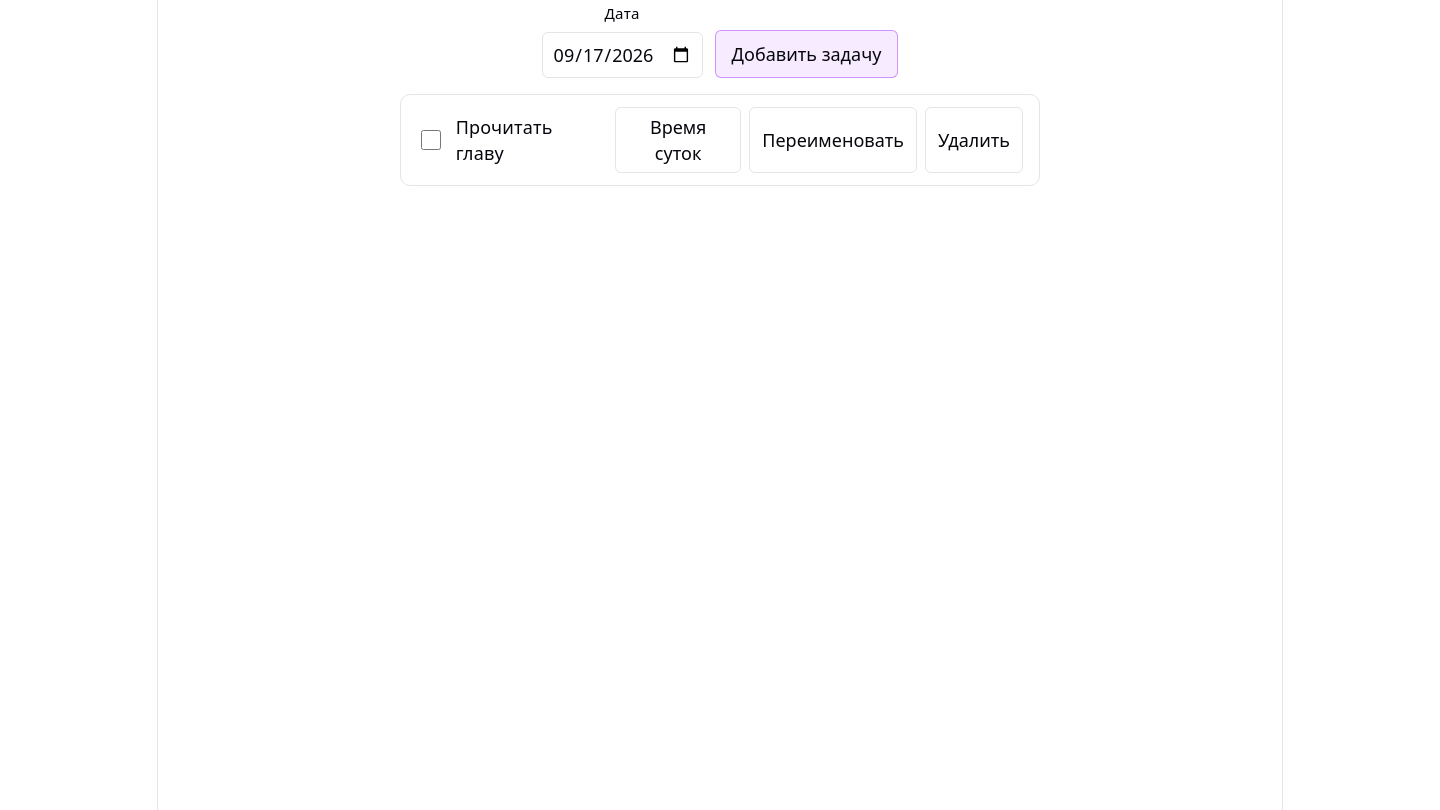
Test case: TasksTab › сохраняет прежнее название при ошибке переименования задачи
Expected: the text "Прочитать главу" is shown, [456,115,553,165]
Click the button with aria-label "Переименовать Прочитать главу" at (833, 140), box [749,107,917,173]
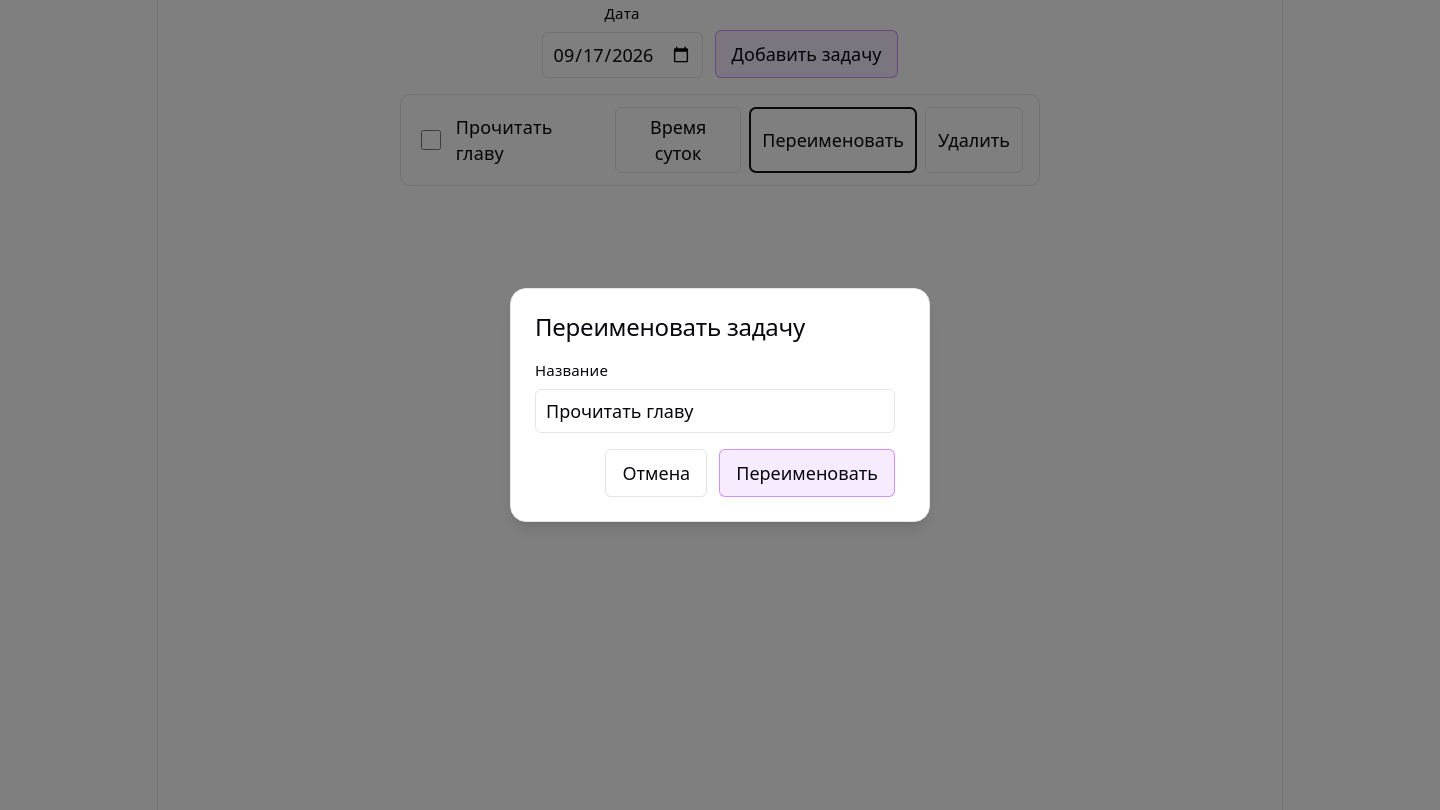
Replace the text in the field labelled "Название" with "Другое" at (715, 411), box [535,389,895,433]
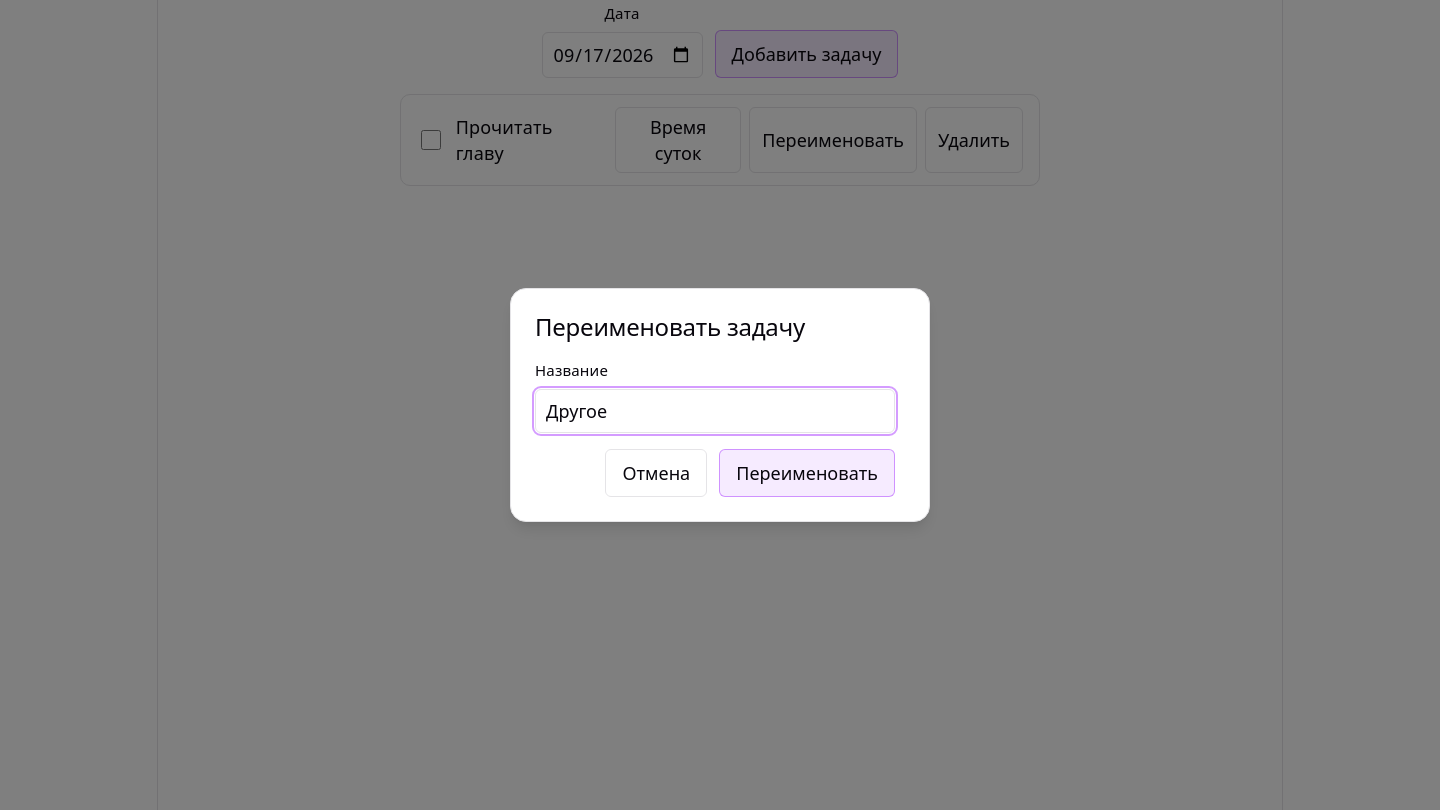
Click the button "Переименовать" at (807, 473), box [719,449,895,497]
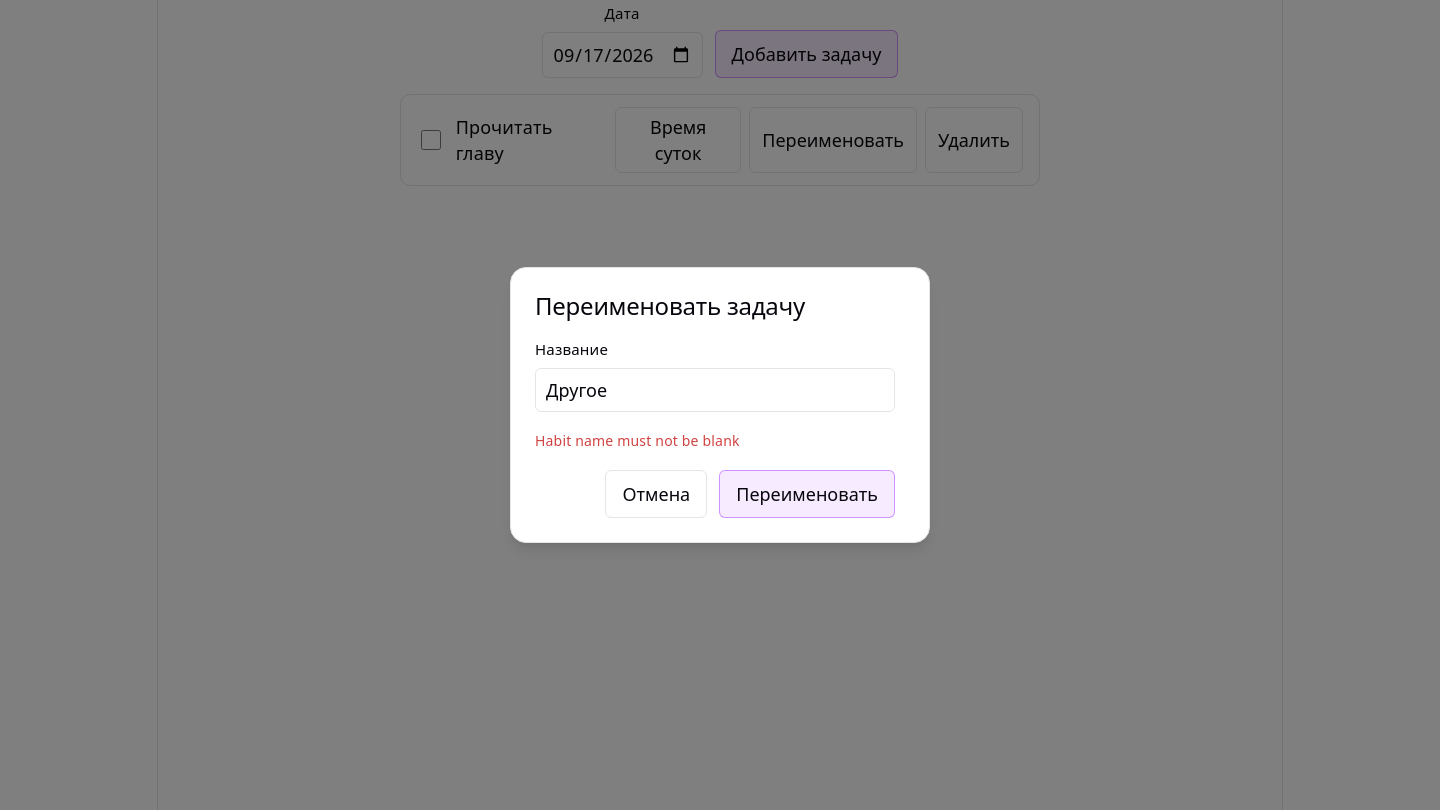
Expected: the text "Прочитать главу" is shown, [456,115,553,165]
Expected: the message reads "Habit name must not be blank", [535,431,740,450]
